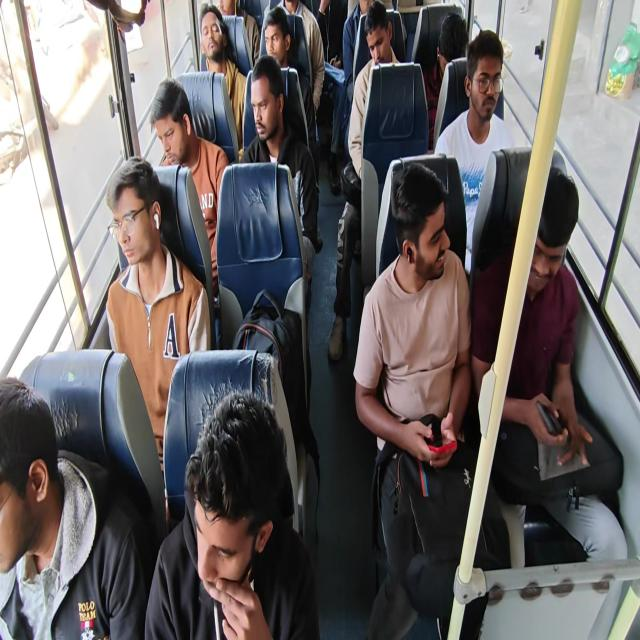person: (190, 416, 292, 617), (392, 146, 462, 404), (110, 167, 183, 399), (0, 374, 61, 621), (522, 163, 586, 358), (145, 80, 197, 186), (472, 31, 512, 137), (308, 1, 347, 91), (194, 12, 232, 104), (252, 61, 288, 155), (434, 10, 464, 94), (260, 17, 292, 67), (368, 13, 393, 63), (210, 0, 245, 22), (281, 0, 305, 29), (354, 0, 378, 27)
